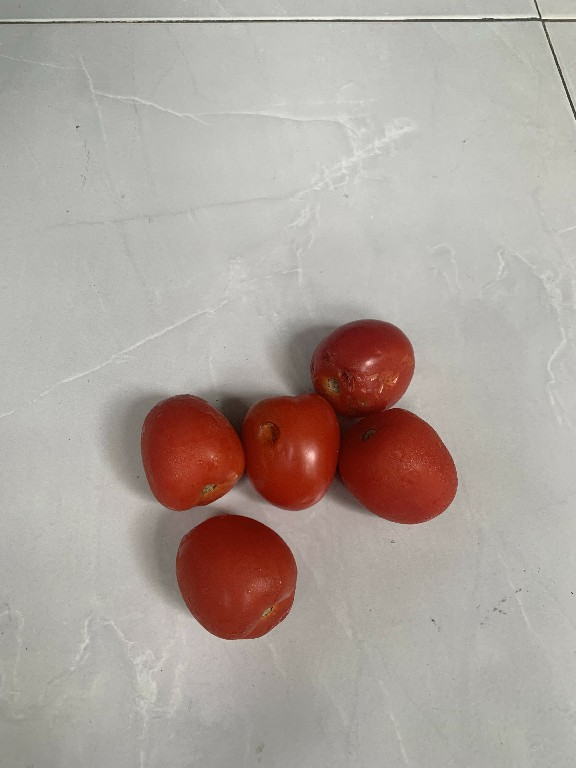NG: (239, 386, 346, 513), (306, 312, 418, 416)
OK: (169, 513, 303, 647), (337, 404, 470, 528), (130, 389, 250, 514)
